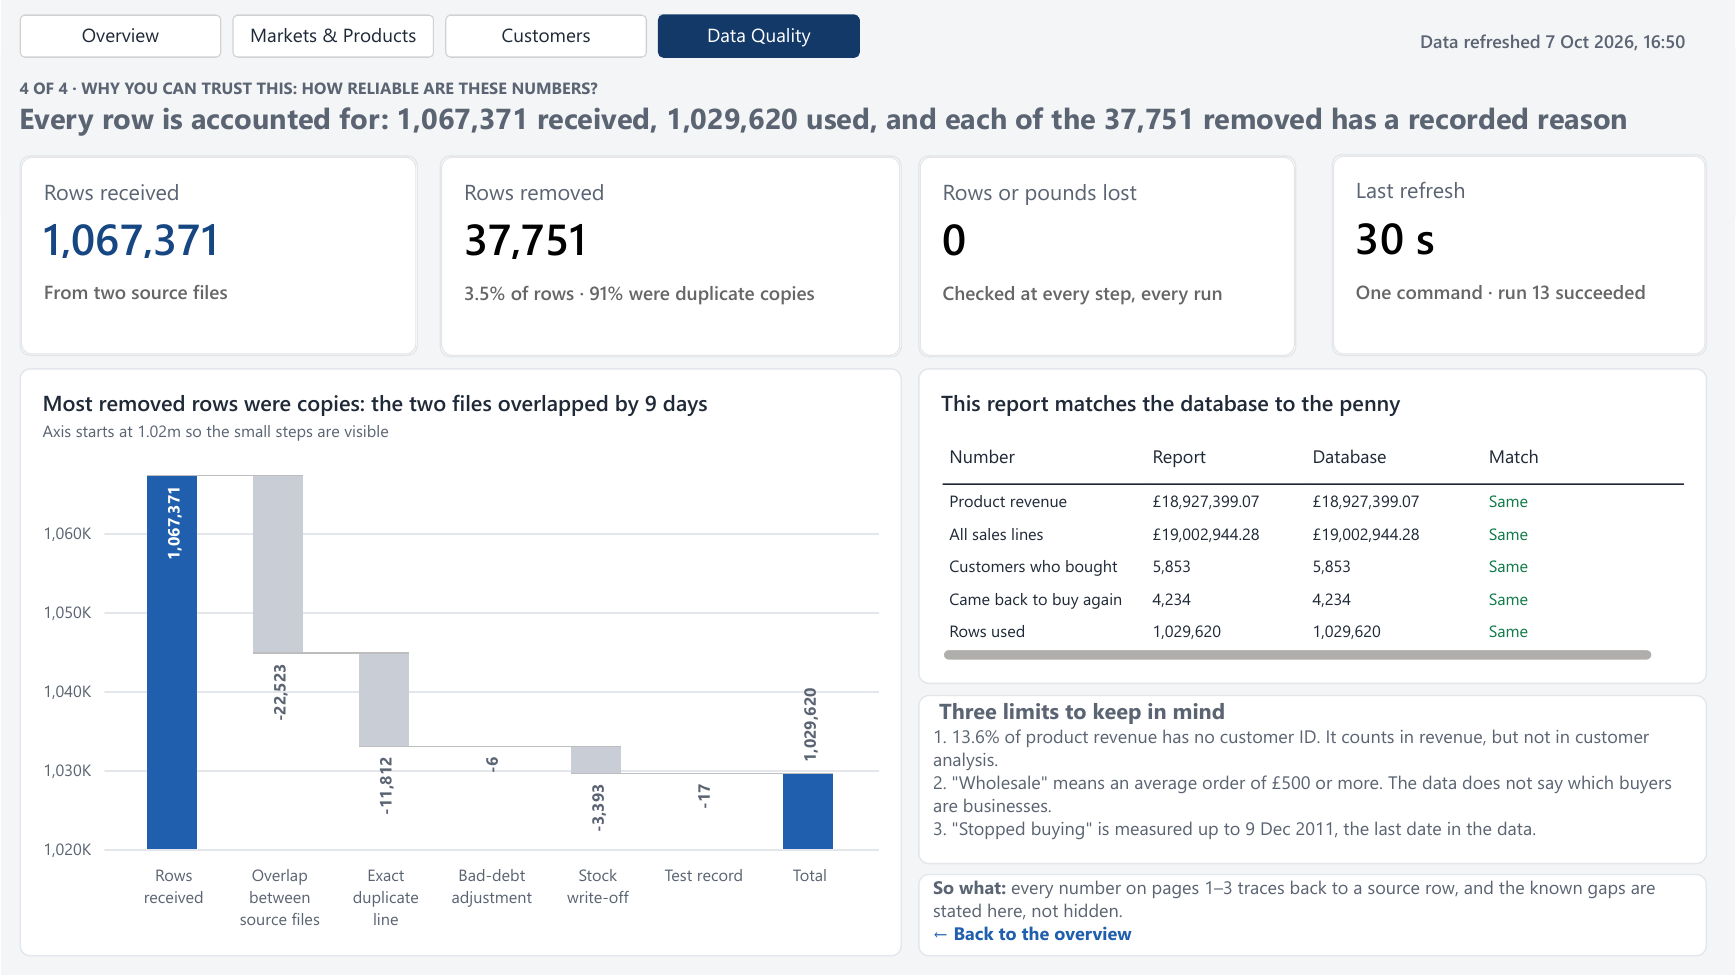

This screenshot's page, from the dashboard's own definition file:
{"tool":"powerbi","page":{"name":"Data Quality","canvas":[1280,720],"ordinal":3},"visuals":[{"type":"pageNavigator","box":[14,11,620,32],"z":0},{"type":"textbox","box":[14,56,1202,62],"z":1},{"type":"cardVisual","fields":{"Data":["_Measures (2).Last Refreshed Label"]},"box":[1027,6,232,37],"z":2},{"type":"cardVisual","fields":{"Data":["_Measures (2).Rows Received Display"]},"box":[14,115,294,148],"z":3},{"type":"cardVisual","fields":{"Data":["_Measures (2).Rows Excluded Display"]},"box":[324,115,341,149],"z":4},{"type":"cardVisual","fields":{"Data":["_Measures (2).Rows or Pounds Lost Display"]},"box":[677,115,279,149],"z":5},{"type":"cardVisual","fields":{"Data":["_Measures (2).Refresh Duration Display"]},"box":[981.9,114.3,276.7,148.5],"z":6},{"type":"waterfallChart","title":"Most removed rows were copies: the two files overlapped by 9 days","fields":{"Category":["Data Quality.Step"],"Y":["Sum(Data Quality.Rows)"]},"box":[14,272,651,434],"z":7},{"type":"tableEx","title":"This report matches the database to the penny","fields":{"Values":["Reconciliation.Check","_Measures (2).Recon Report Display","_Measures (2).Recon Database Display","_Measures (2).Recon Status"]},"box":[677,272,582,233],"z":8},{"type":"textbox","box":[677,513,582,125],"z":9},{"type":"textbox","box":[677,645,582,61],"z":10}]}

Visuals, with their boxes in screenshot pixels (x1, y1, x2, y2), scaled from the page's 1280x720 canvas onto the 1736x975 screenshot:
pageNavigator: 19 15 860 58
textbox: 19 76 1649 160
cardVisual - _Measures (2).Last Refreshed Label: 1393 8 1708 58
cardVisual - _Measures (2).Rows Received Display: 19 156 418 356
cardVisual - _Measures (2).Rows Excluded Display: 439 156 902 358
cardVisual - _Measures (2).Rows or Pounds Lost Display: 918 156 1297 358
cardVisual - _Measures (2).Refresh Duration Display: 1332 155 1707 356
"Most removed rows were copies: the two files overlapped by 9 days" waterfallChart: 19 368 902 956
"This report matches the database to the penny" tableEx: 918 368 1708 684
textbox: 918 695 1708 864
textbox: 918 873 1708 956
